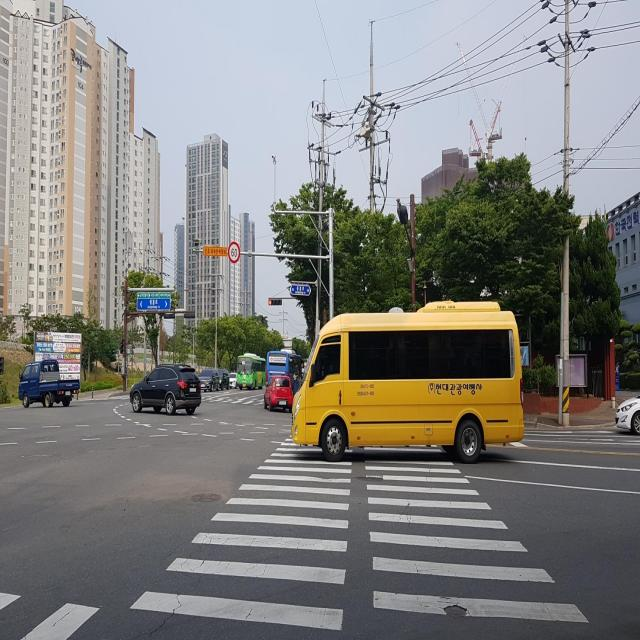횡단보도: (130, 430, 590, 636), (193, 394, 269, 406)
